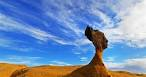yehliu: (81, 23, 114, 53)
